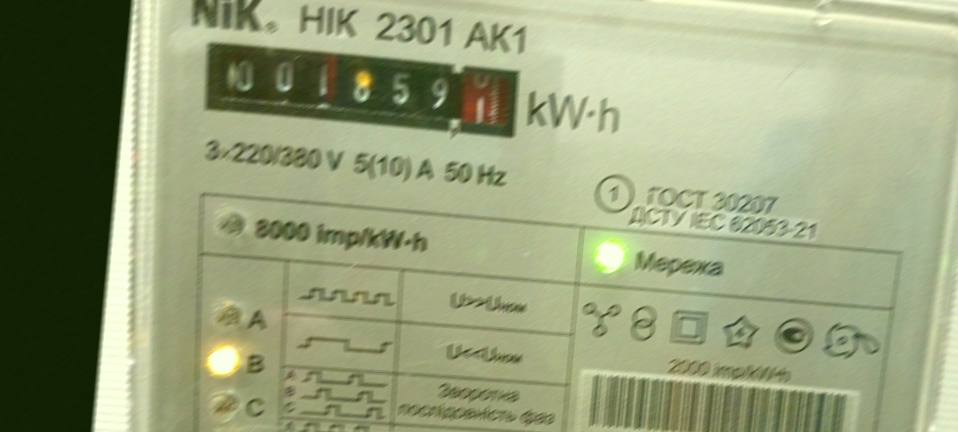0: (234, 55, 256, 92), (273, 56, 296, 91)
1: (317, 59, 331, 96), (472, 91, 488, 123)
5: (390, 67, 413, 104)
8: (351, 66, 374, 102)
9: (428, 73, 450, 109)
screen: (190, 27, 532, 147)
